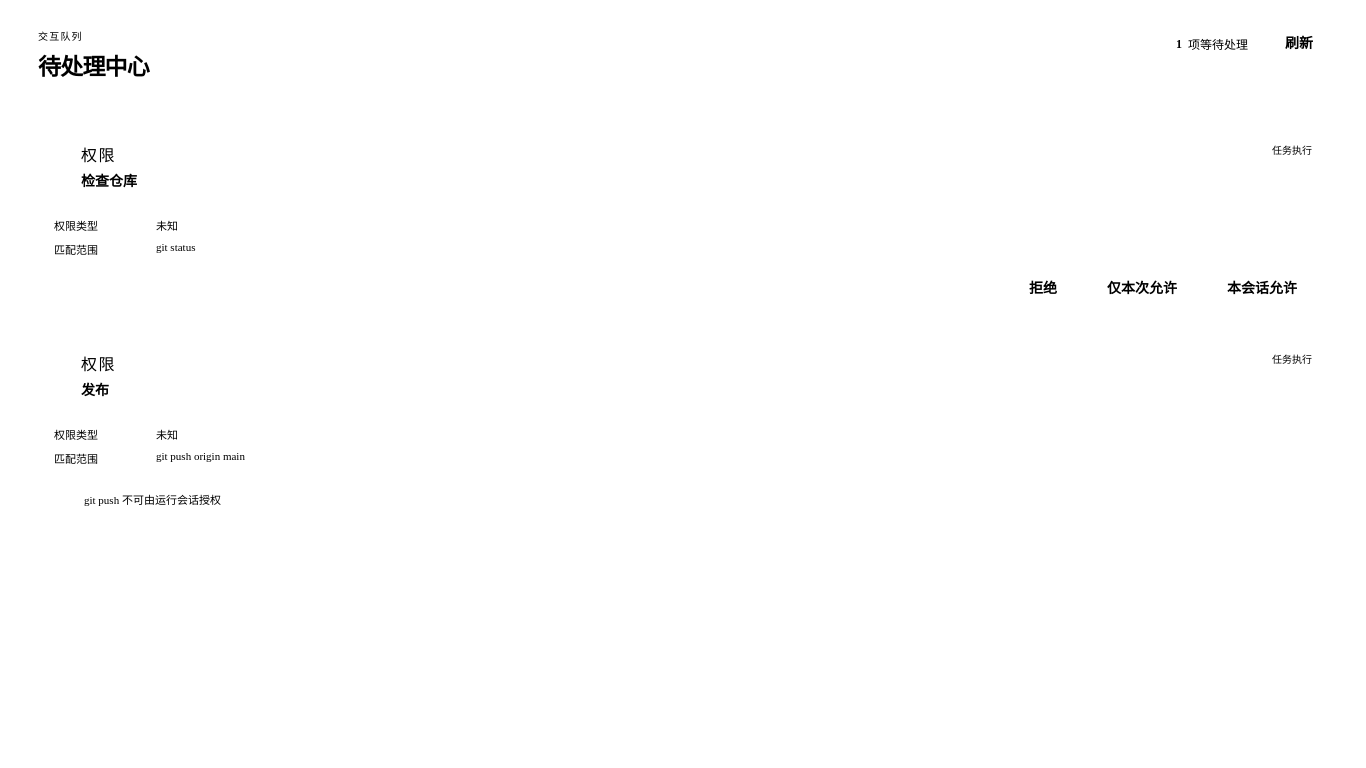
Test case: 统一待处理中心 › keeps submission errors visible through successful reconciliation and automatic refresh
Click the button "仅本次允许" at (1142, 289), box [1092,273,1192,305]
Wait 1500 ms
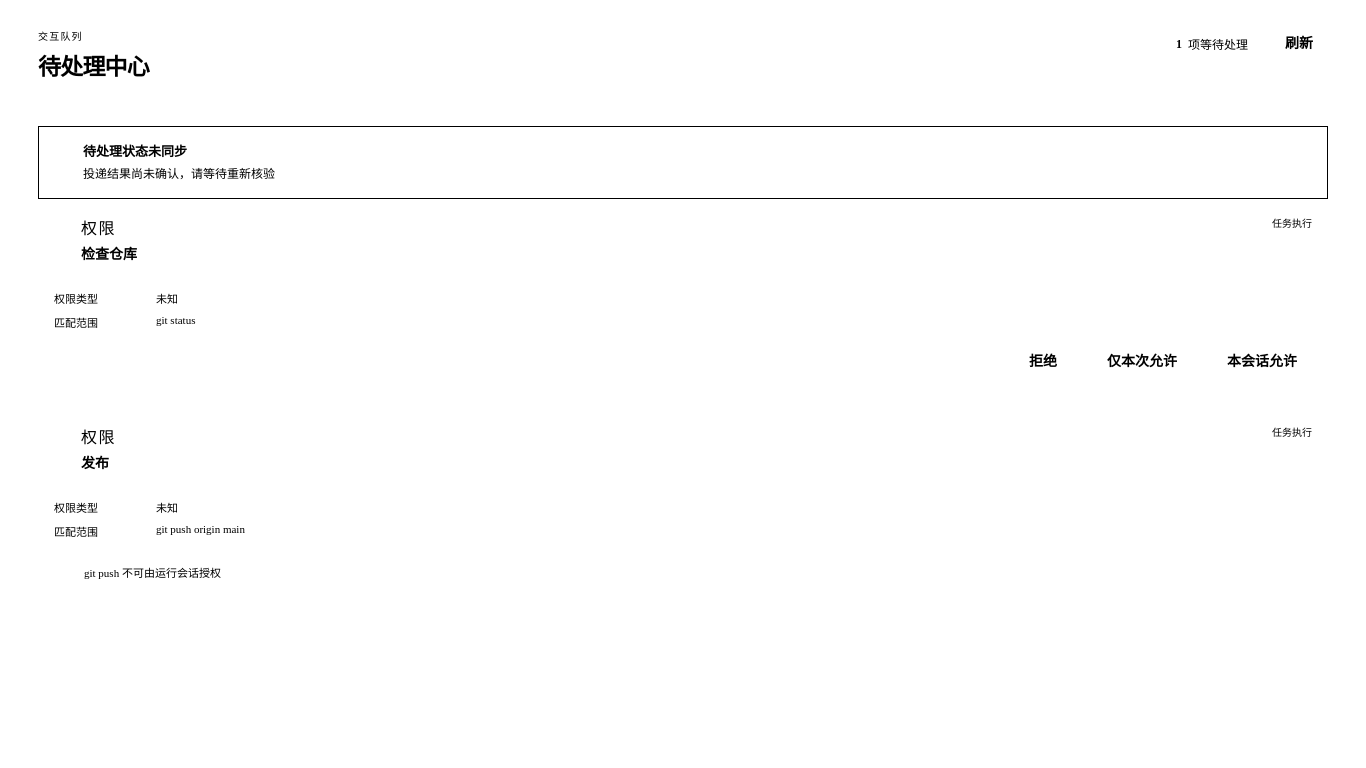
Now the text "投递结果尚未确认，请等待重新核验" is shown, box [83,165,275,184]
